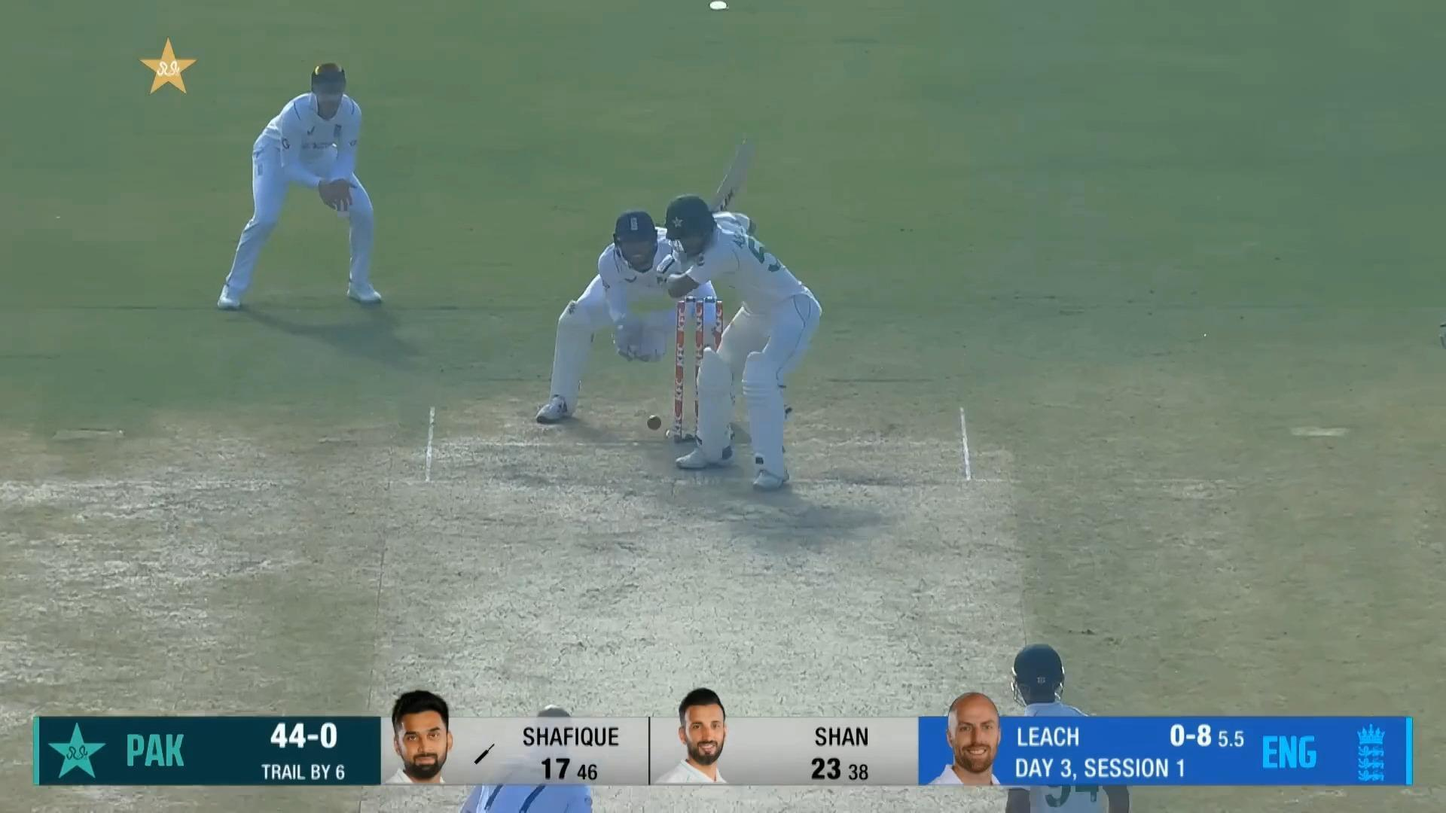BM 1: (654, 134, 824, 493)
BO: (458, 703, 595, 813)
